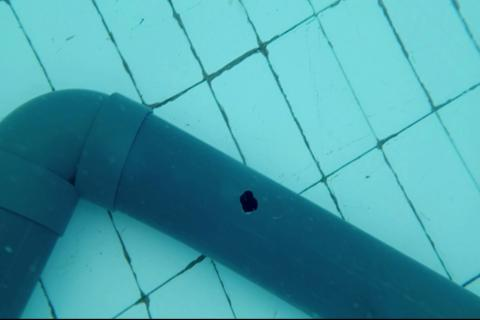kebocoran: (238, 188, 258, 217)
